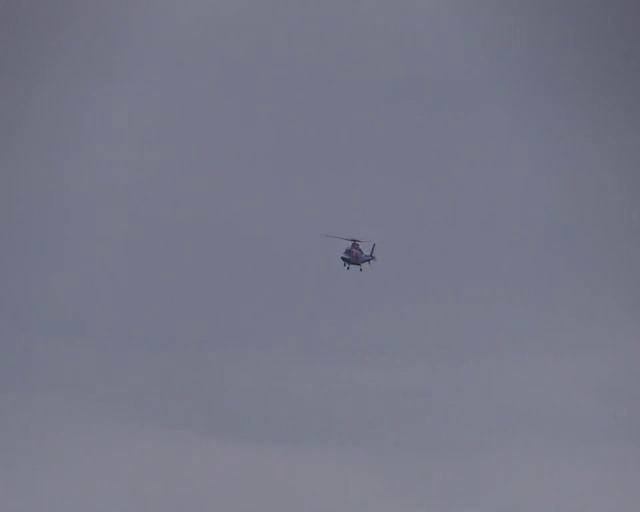HELICOPTER: (322, 234, 378, 272)
